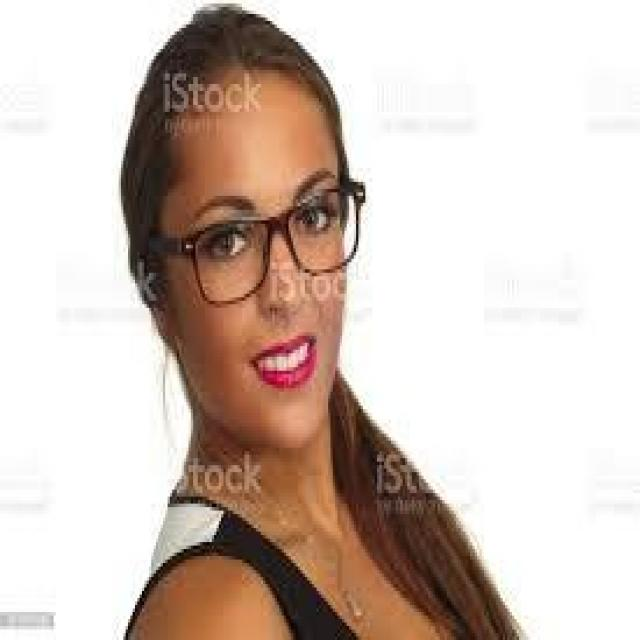person: (102, 7, 519, 636)
